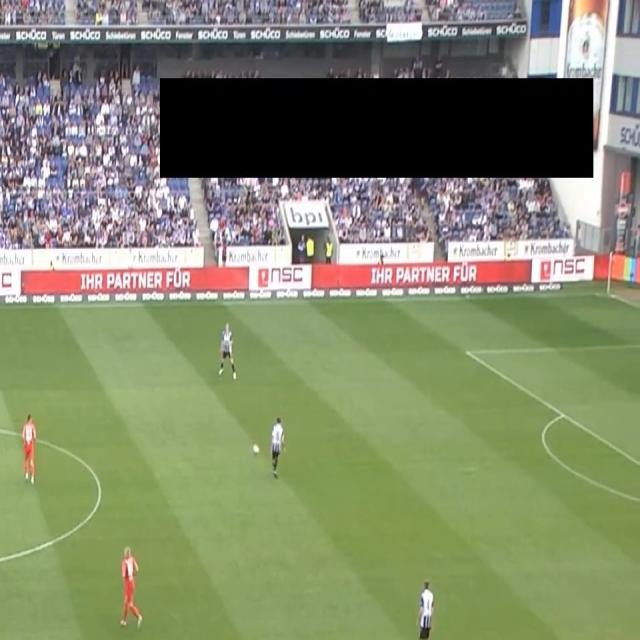ball: (252, 442, 260, 456)
